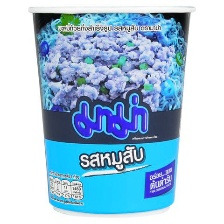paper_cup: (23, 1, 199, 221)
